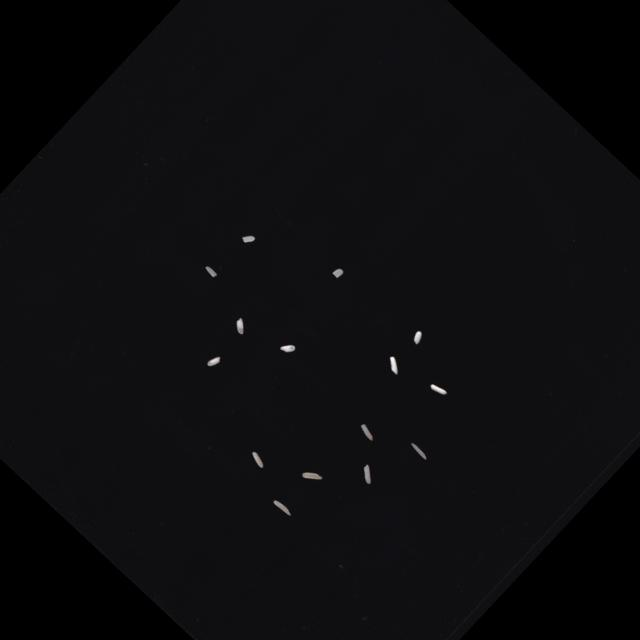Chalky: (232, 318, 250, 336), (278, 340, 296, 358), (205, 352, 222, 370)
Not: (300, 466, 323, 488), (383, 354, 405, 376), (357, 464, 378, 485), (428, 380, 448, 400), (272, 498, 292, 518), (357, 423, 377, 442), (248, 450, 267, 470), (409, 442, 428, 461), (410, 330, 426, 346), (240, 231, 256, 247), (204, 265, 218, 279), (332, 266, 344, 280)
